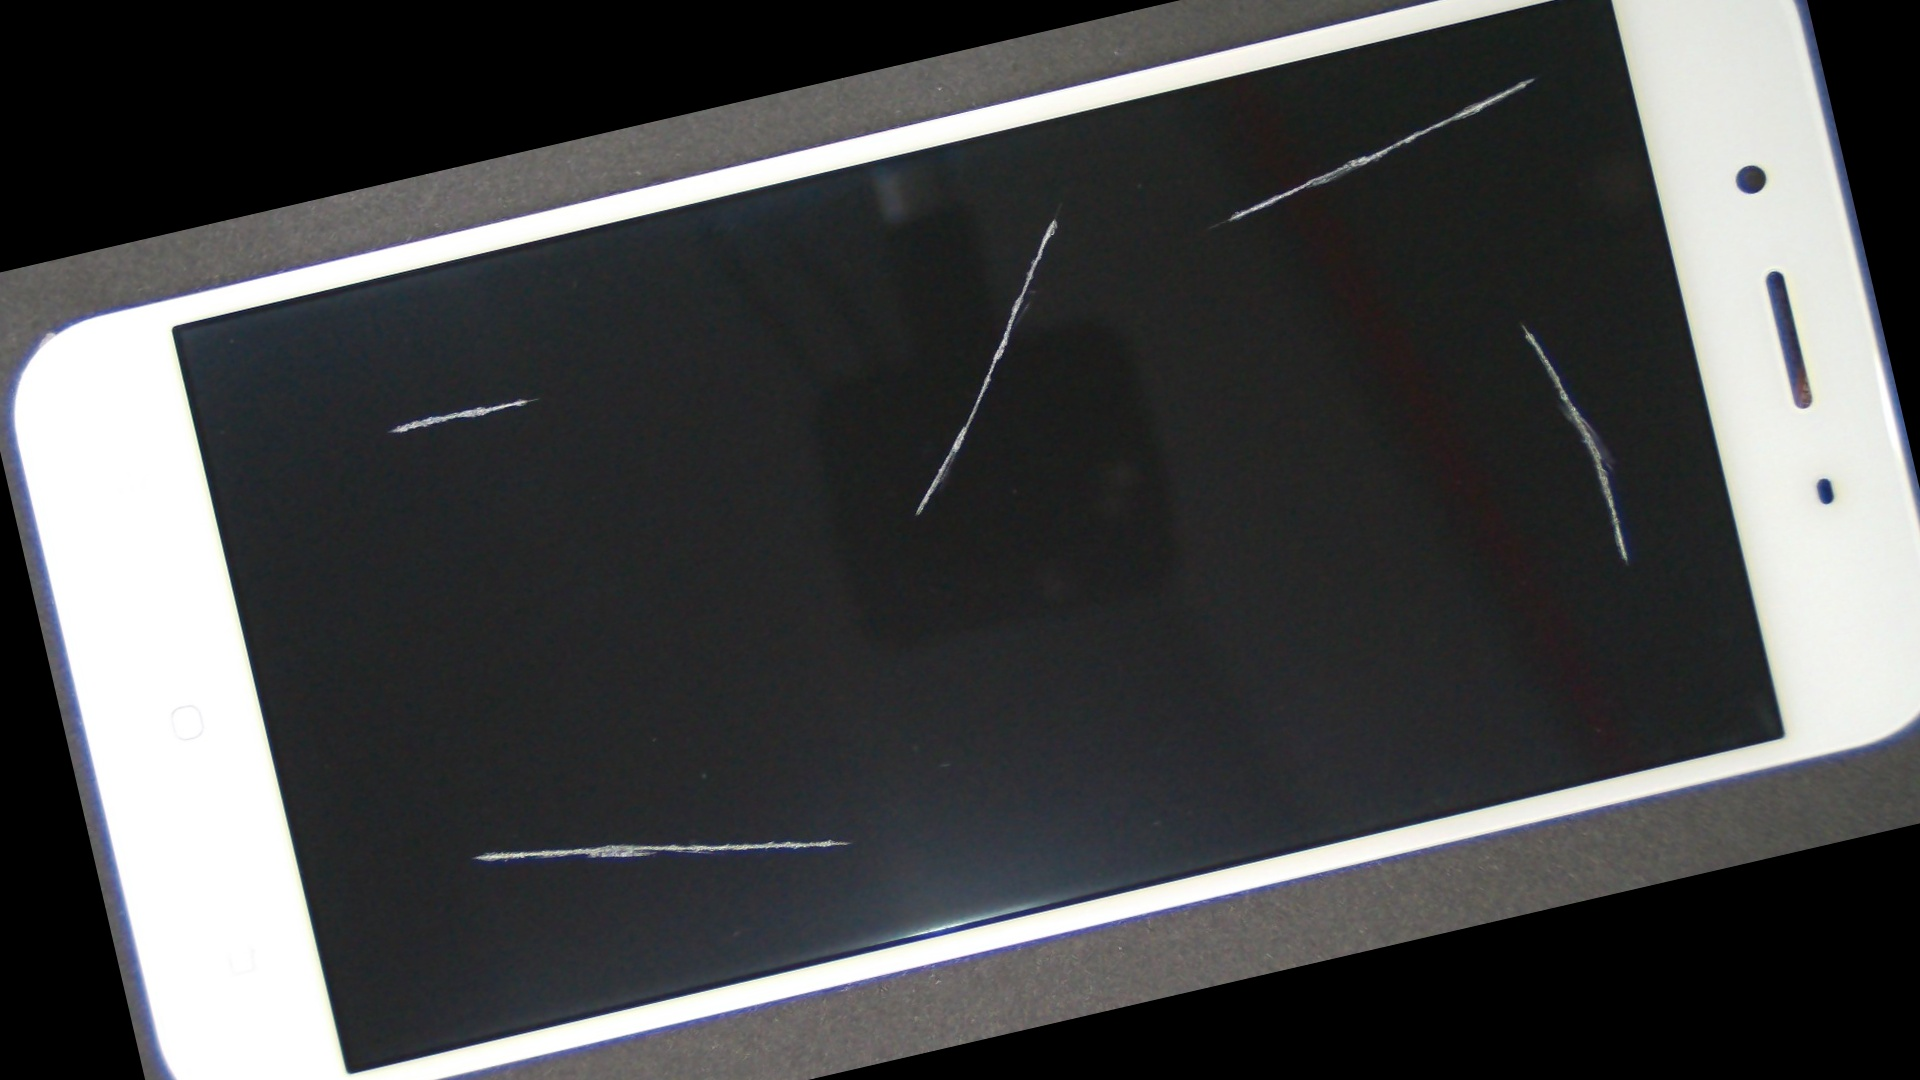oil: (740, 51, 1908, 686), (509, 7, 1601, 430), (745, 0, 1828, 330), (222, 483, 729, 1080), (189, 257, 645, 582)
